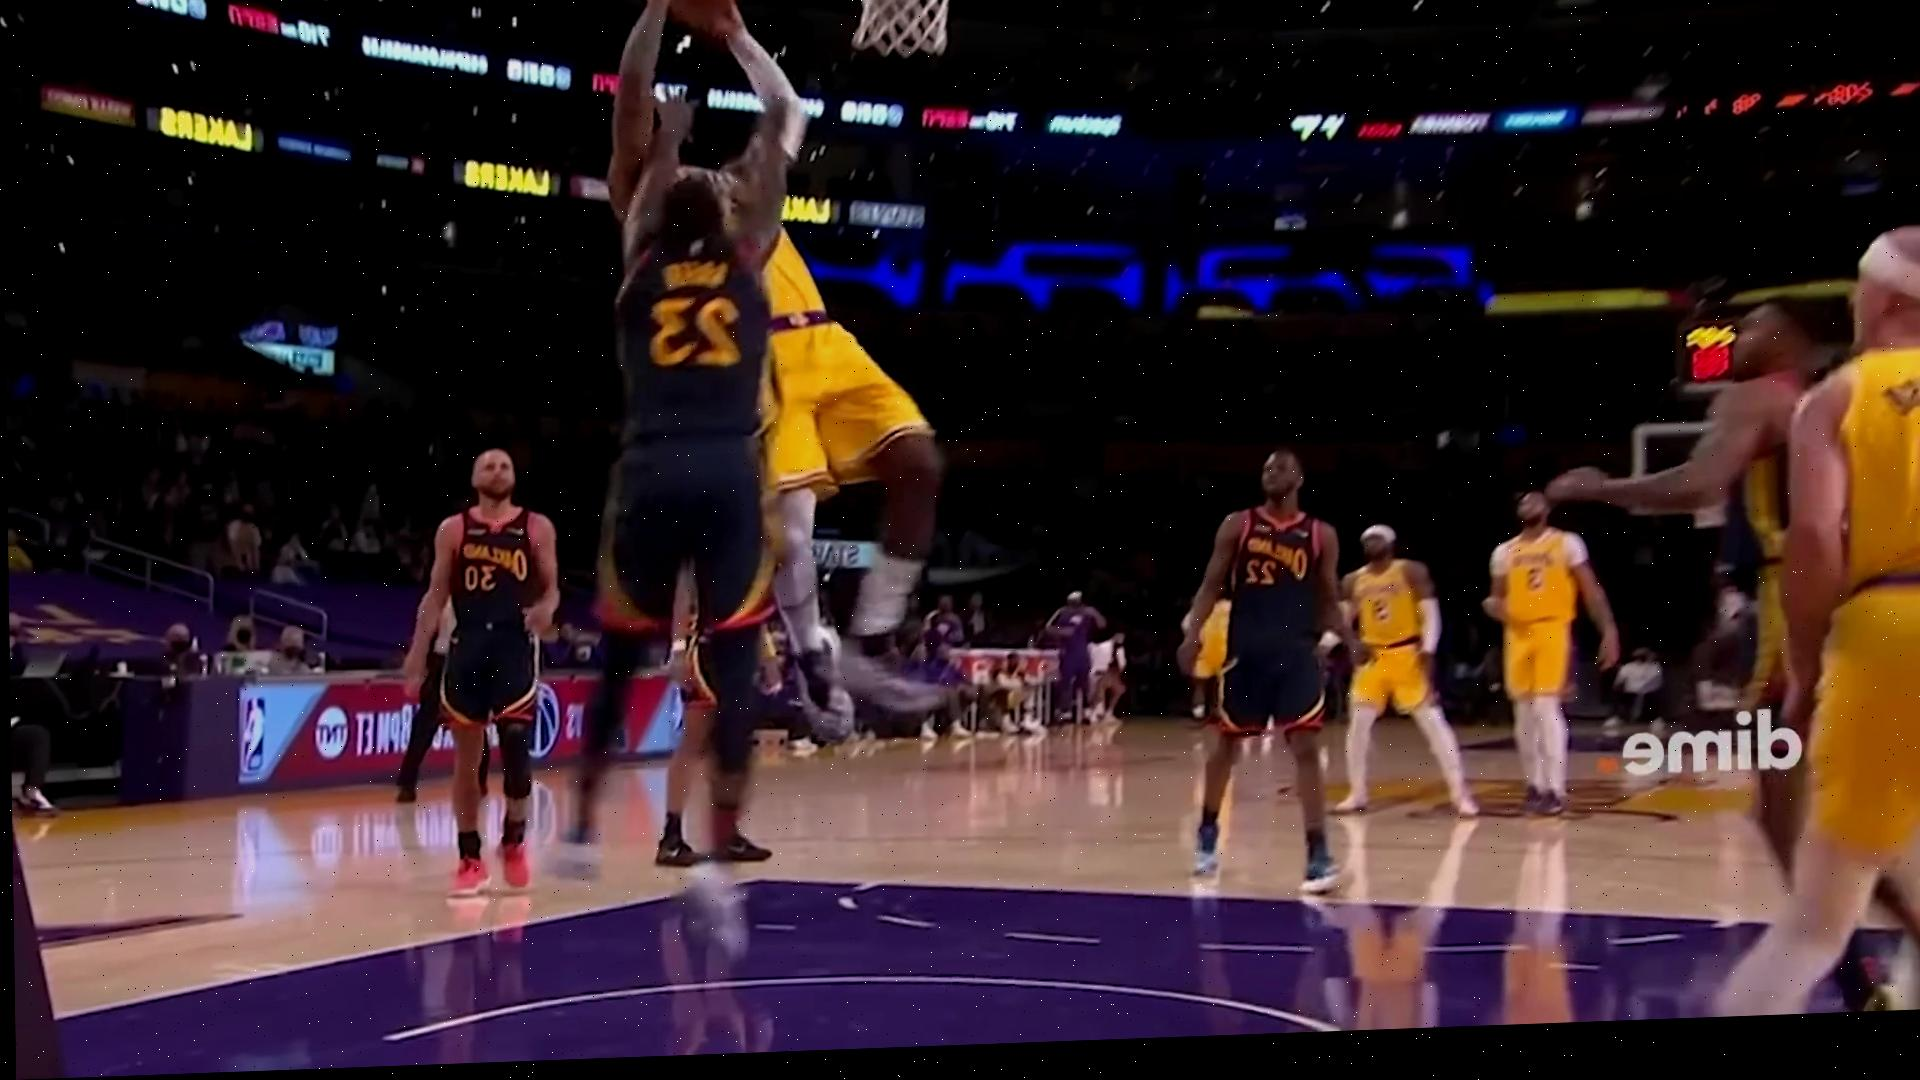foul: (525, 0, 952, 920)
